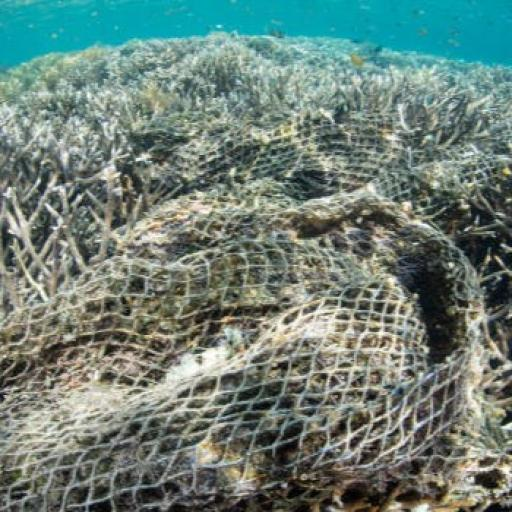net: (1, 29, 511, 512)
